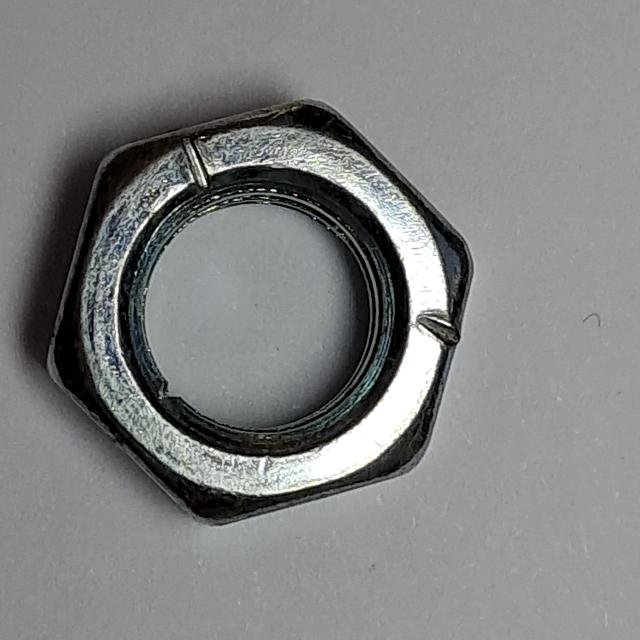Scratches: (36, 91, 488, 542)
